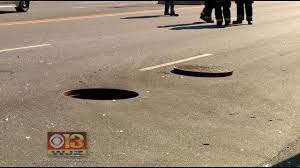Manhole-Open: (60, 81, 147, 107)
human: (235, 2, 261, 26), (216, 1, 236, 32), (202, 1, 216, 27), (162, 2, 180, 19)
